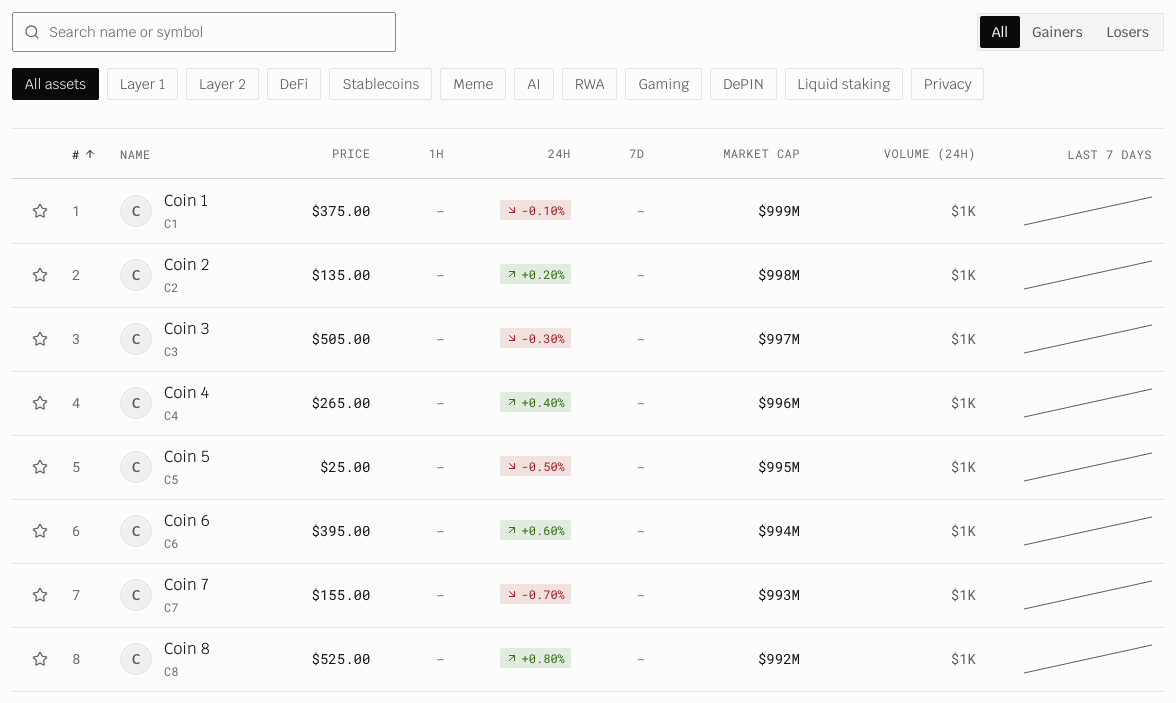
Test: MarketsExplorer: search › the clear button resets instantly (no debounce wait)
Type "coin 7" into the search field at {"x": 204, "y": 32}, box [12,12,396,52]
Wait 300 ms
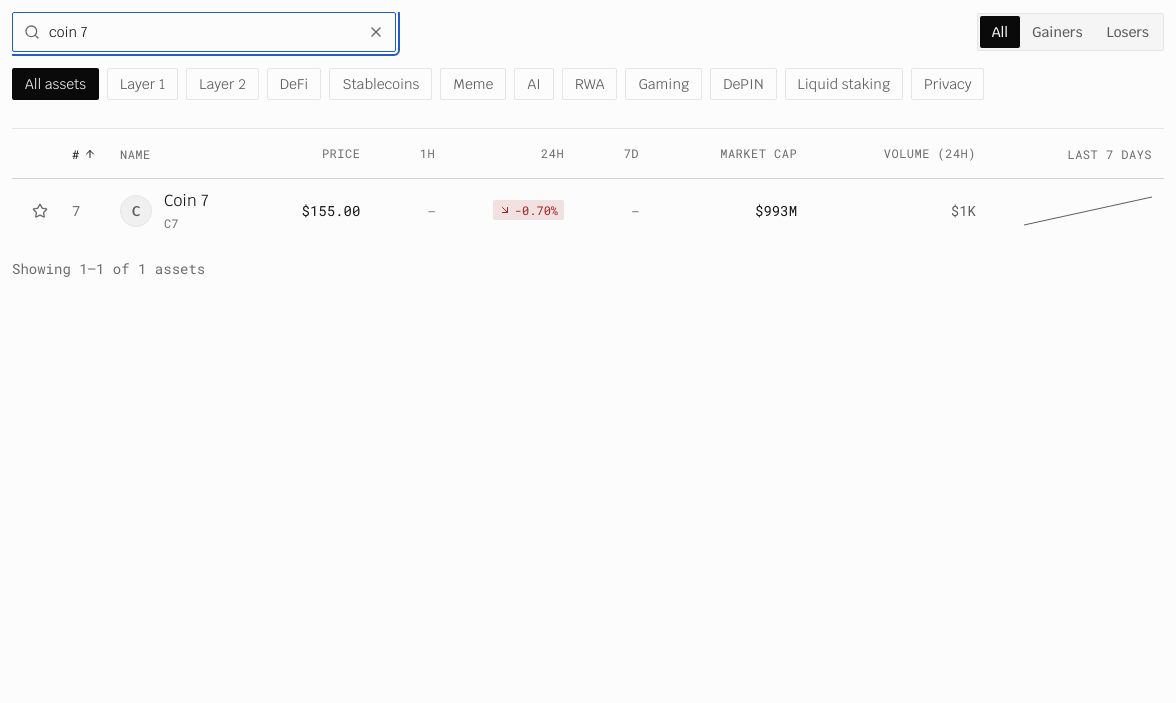
Click the button named "Clear search" at {"x": 376, "y": 32}, box [360,16,392,48]
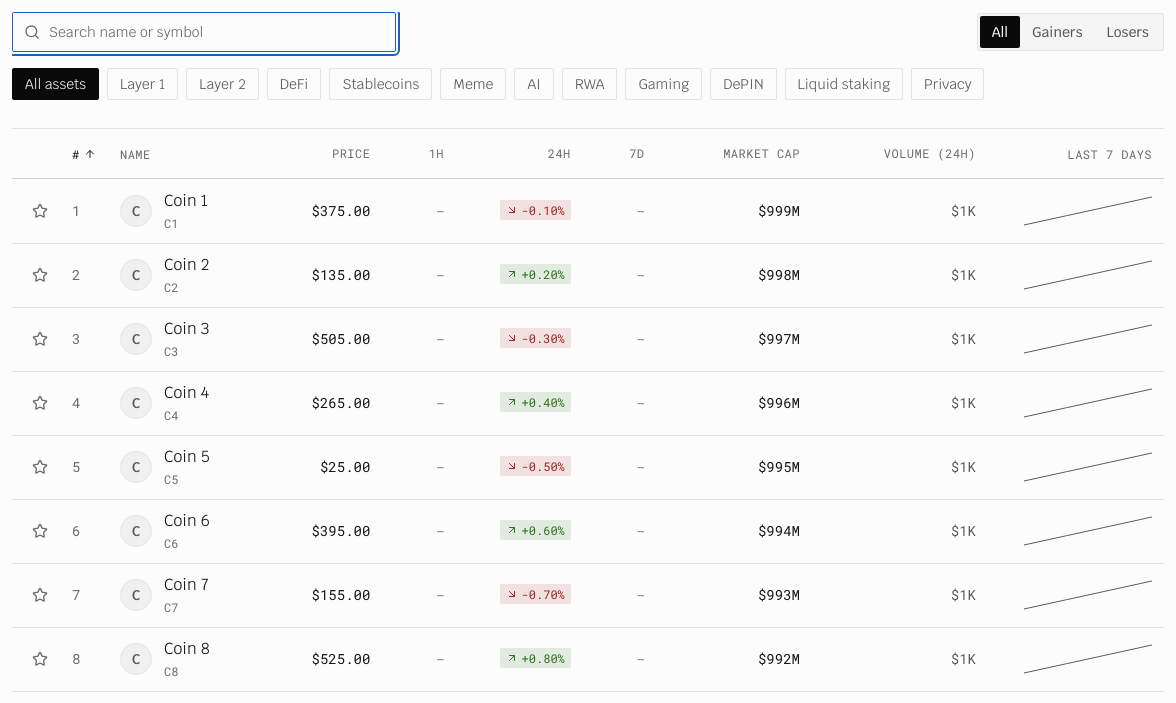
Check: the search field is empty, box [12,12,396,52]
